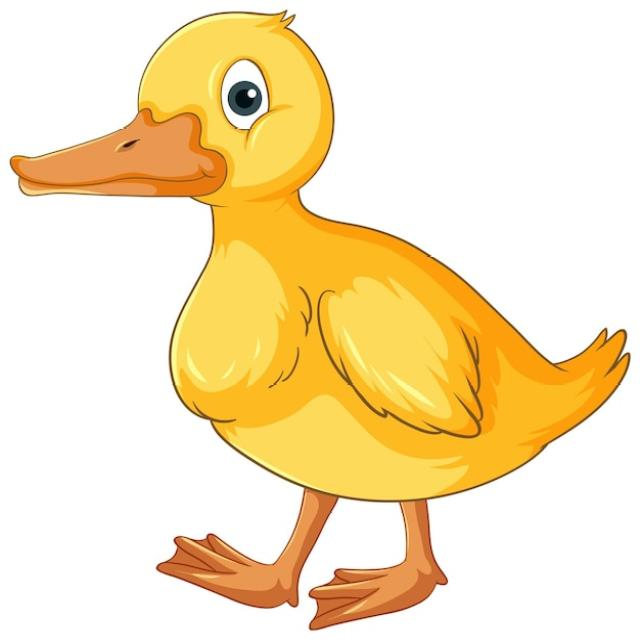Duck: (9, 11, 633, 633)
